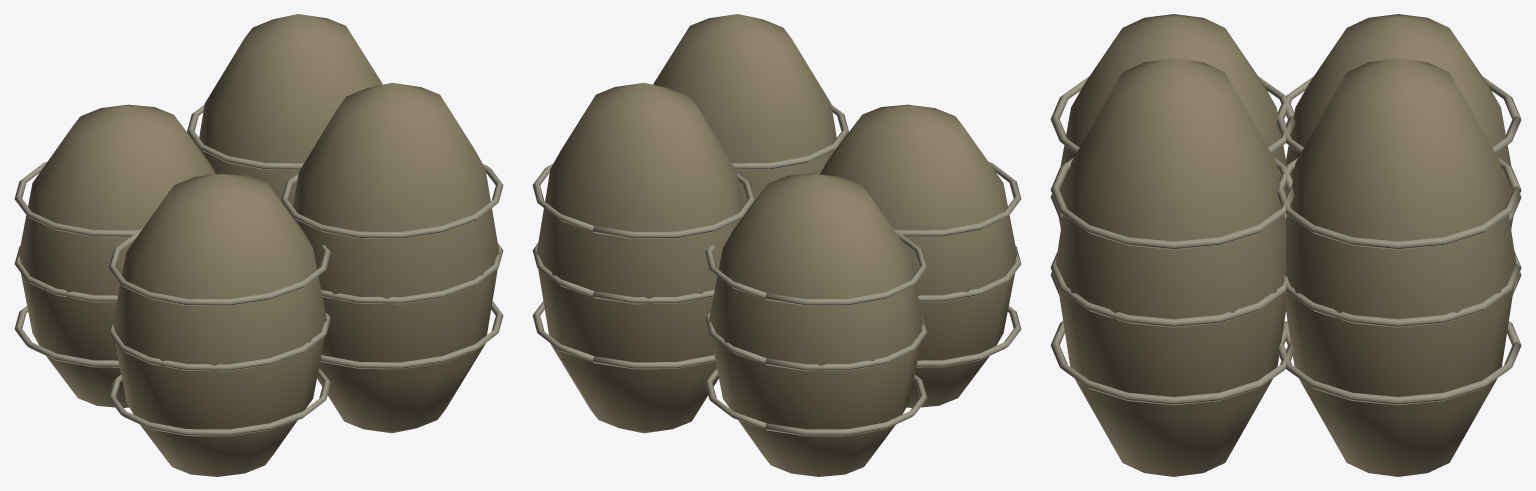
File: eggs.glb
The picture shows the model from 3 angles, left to right: view 1: azimuth 30°, elevation 25°; view 2: azimuth 150°, elevation 25°; view 3: azimuth 270°, elevation 25°; orthographic projection. The views are drawn at different scales.
Parts seen in each view (by area): view 1: MV_eggs; view 2: MV_eggs; view 3: MV_eggs.
Boxes of the visible parts, box(x1,y1,x2,y2) form: MV_eggs: box(14, 14, 503, 476); MV_eggs: box(532, 14, 1021, 476); MV_eggs: box(1050, 14, 1521, 476).
Size of the model in its own units: 0.387 by 0.35 by 0.3569.
